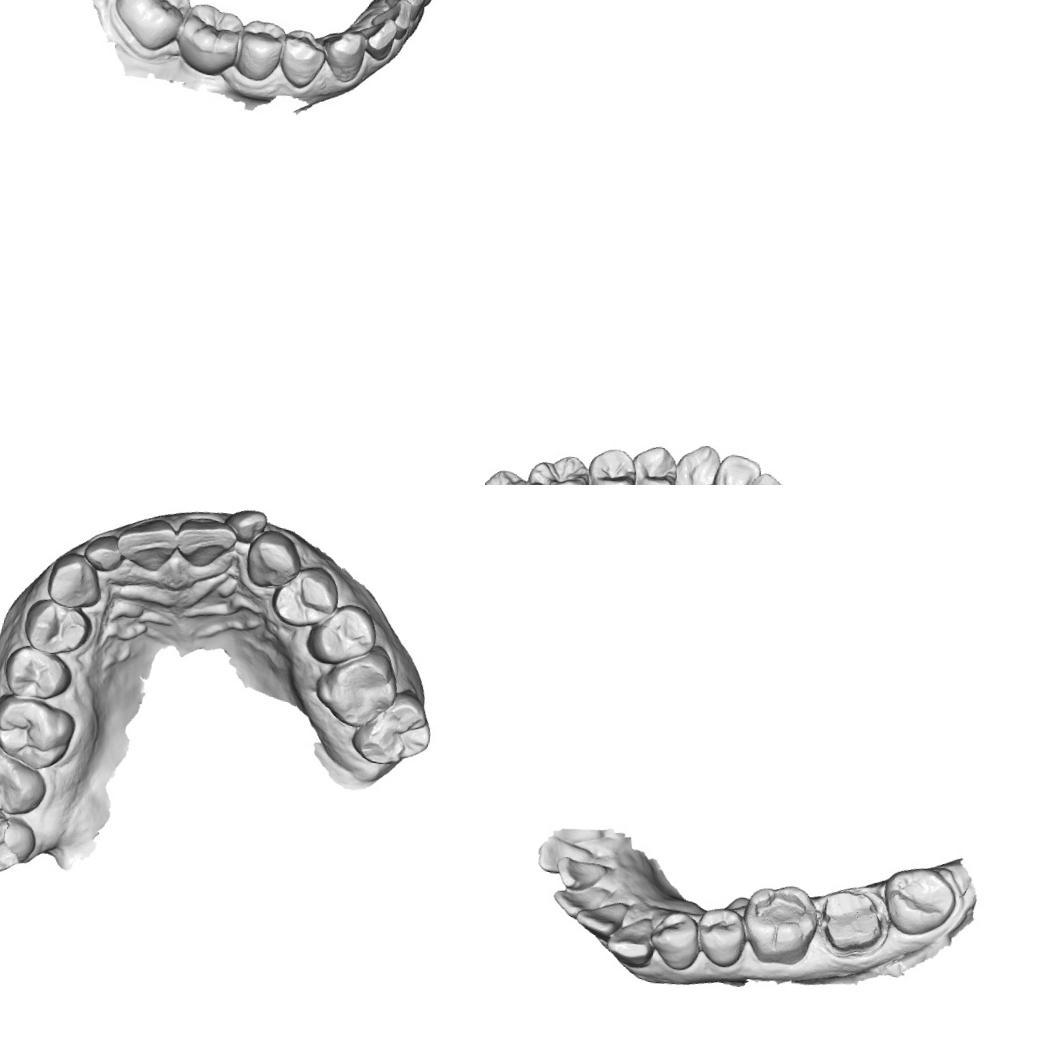canine: (42, 546, 108, 614), (241, 526, 306, 593), (600, 910, 660, 969), (318, 26, 369, 86), (671, 437, 722, 485)
crown: (814, 879, 891, 960)
incisor: (170, 512, 240, 572), (115, 514, 178, 569), (550, 878, 616, 924), (550, 852, 611, 898), (572, 895, 630, 942), (533, 832, 592, 878), (345, 13, 398, 63), (80, 529, 130, 576), (368, 0, 414, 42), (223, 505, 270, 546), (709, 450, 764, 485), (382, 0, 429, 22), (742, 469, 797, 485)
molar: (310, 637, 406, 735), (346, 683, 437, 773), (736, 878, 822, 970), (879, 860, 961, 945), (0, 692, 78, 776), (172, 0, 248, 81), (107, 0, 195, 56), (0, 738, 51, 821), (522, 448, 596, 485), (485, 457, 534, 485)
premolar: (304, 598, 382, 673), (268, 559, 344, 634), (21, 594, 96, 659), (0, 642, 75, 704), (690, 902, 752, 972), (645, 904, 706, 974), (234, 16, 288, 84), (277, 26, 330, 92), (582, 441, 645, 485), (627, 441, 682, 485)
